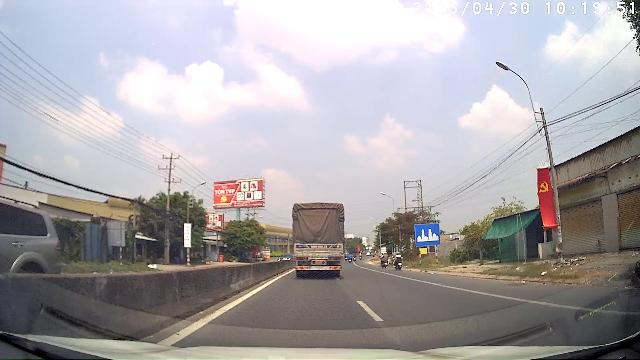420-bat-dau-khu-dong-dan-cu: (416, 223, 440, 245)
